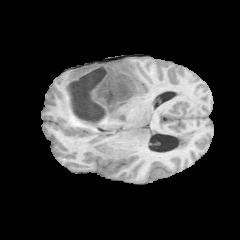glioma: (62, 60, 192, 147)
